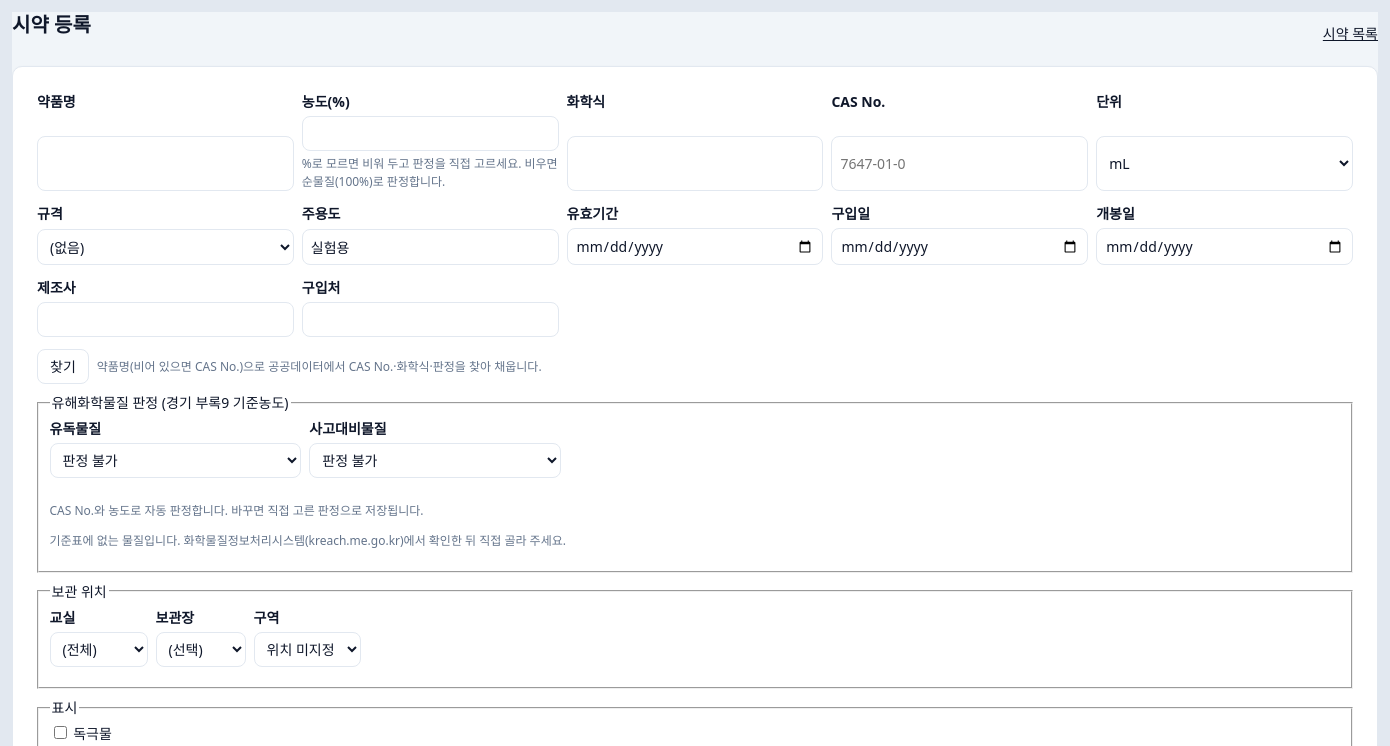
Scenario: new reagent › a bad CAS No. is pointed out
Type "7647-01-1" into the field labelled "CAS No.". click: point(960, 164)
box: top-left (831, 136), bottom-right (1088, 191)
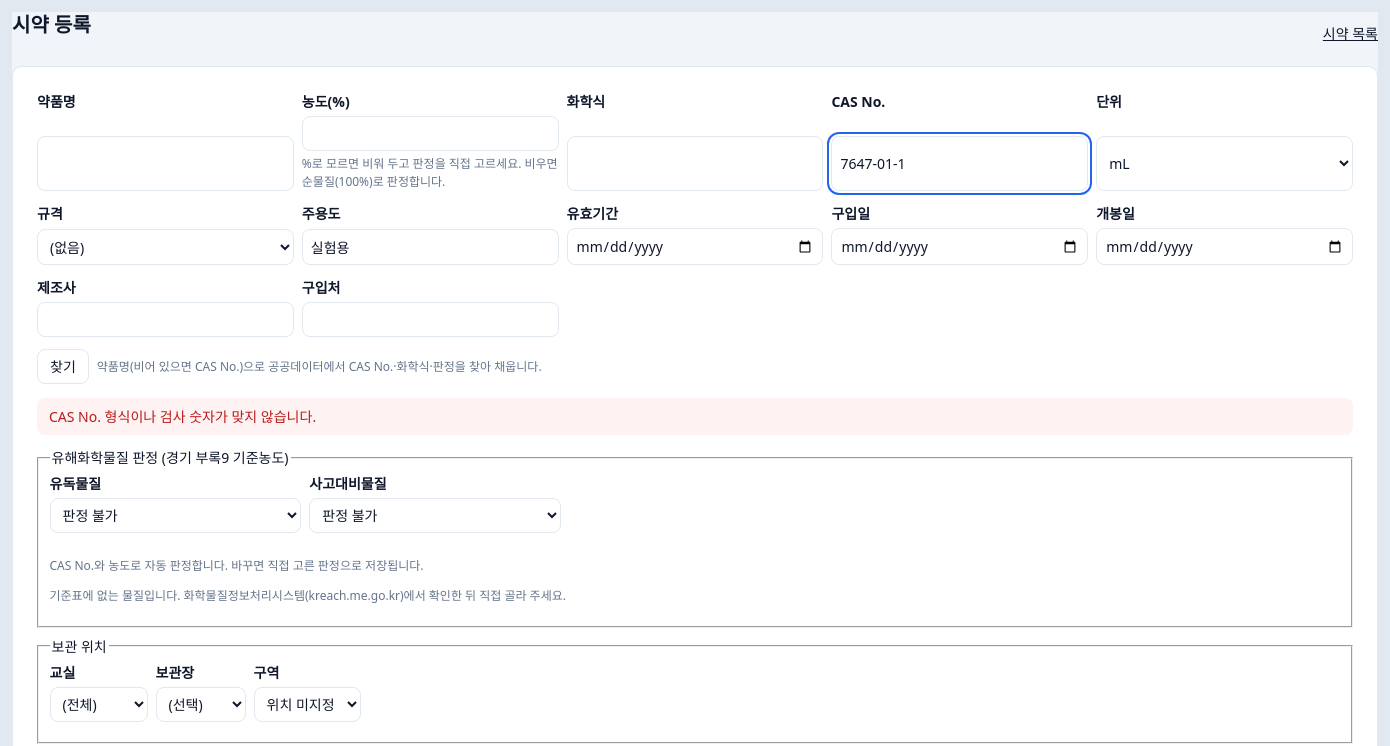
Check: the text "CAS No. 형식이나 검사 숫자가 맞지 않습니다." is shown, box top-left (37, 398), bottom-right (1353, 435)
